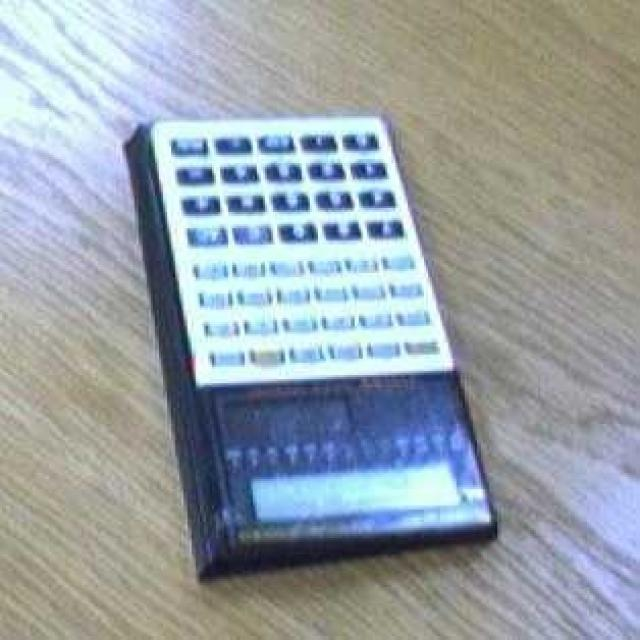Calculator: (124, 116, 497, 575)
